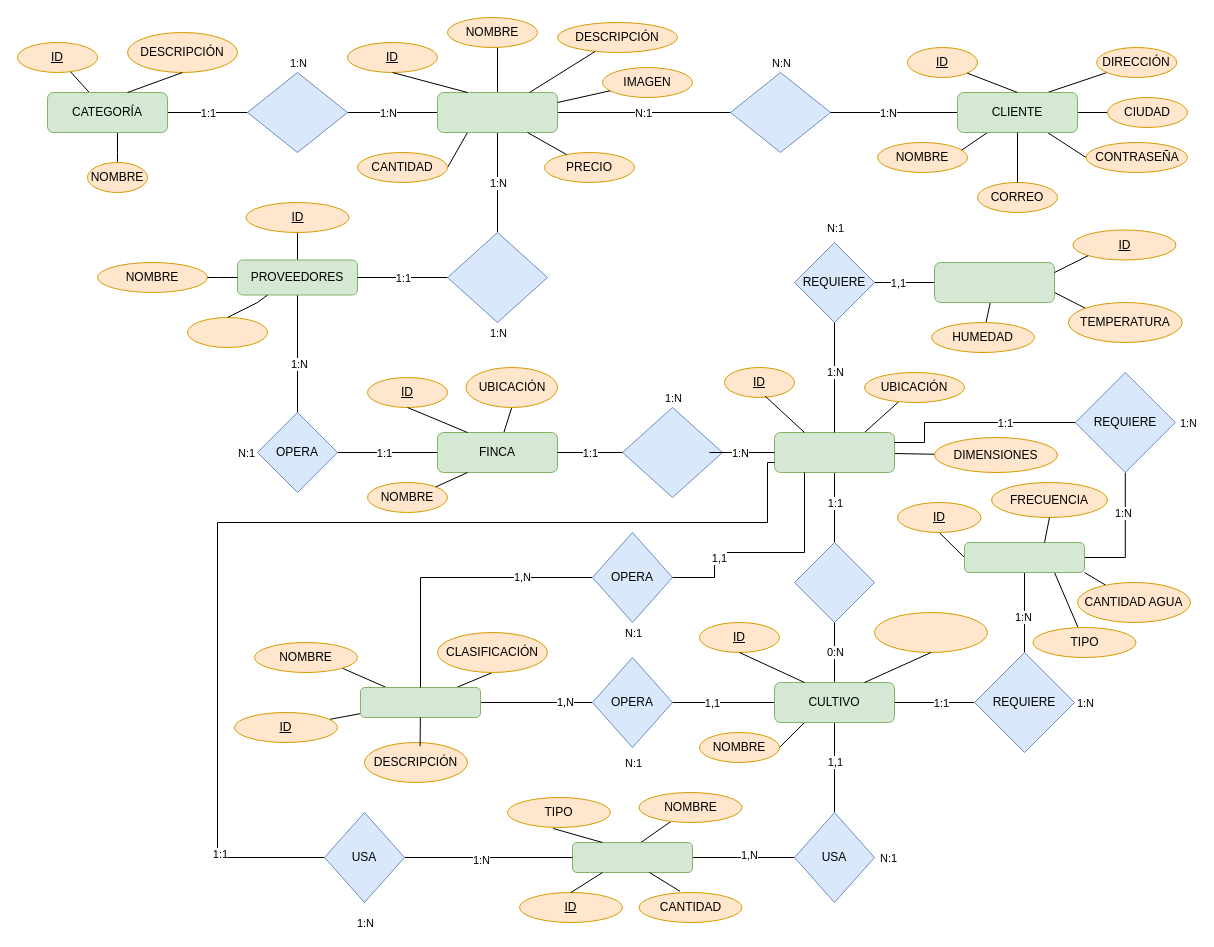
This 1214x947 diagram has some shape labels left out. The box of each missing label's shape, as (x1, y1, x2, y2) in pixels:
ASIGNA: (794, 542, 874, 622)
CLASIFICA: (246, 72, 348, 152)
CLIMA: (934, 262, 1054, 302)
COMPRA: (730, 72, 830, 152)
CONTIENE: (622, 406, 722, 498)
DESCRIPCION: (874, 612, 988, 652)
INSUMOS: (572, 842, 692, 872)
MAQUINARIA: (360, 686, 480, 718)
NIT: (186, 316, 268, 348)
PARCELA: (774, 432, 894, 472)
PRODUCTOS: (436, 92, 558, 132)
RIEGO: (964, 542, 1084, 572)
SUMINISTRA: (446, 232, 548, 322)
